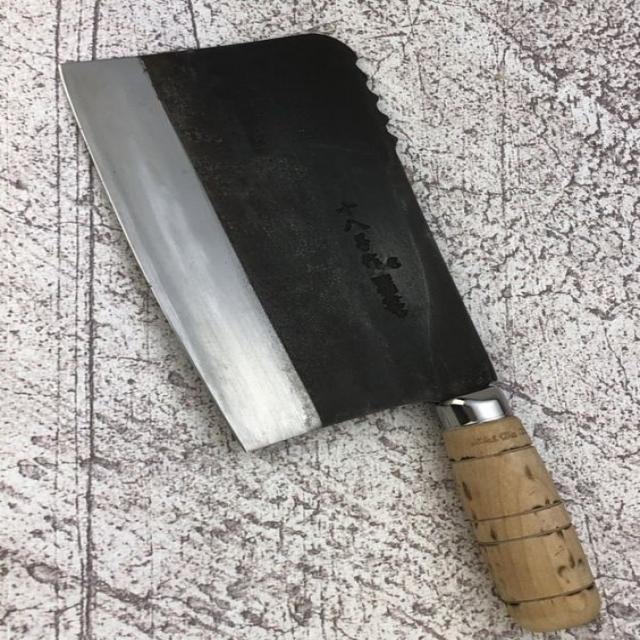cleaver: (58, 39, 603, 640)
